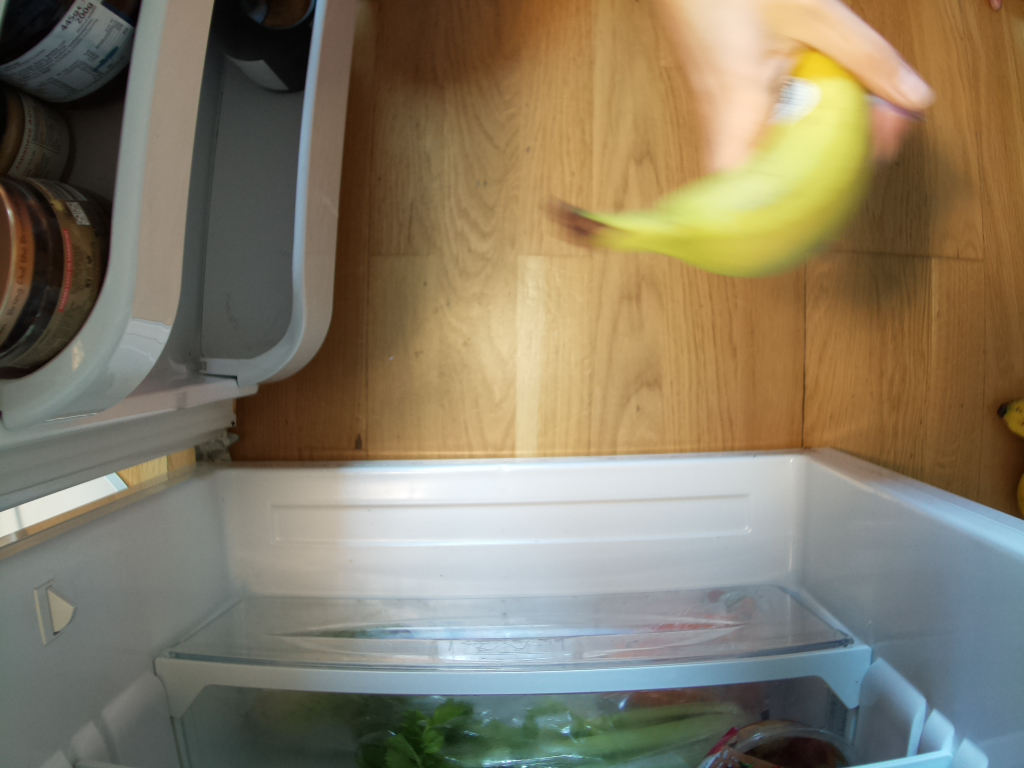banana-unripe: (542, 52, 873, 277)
